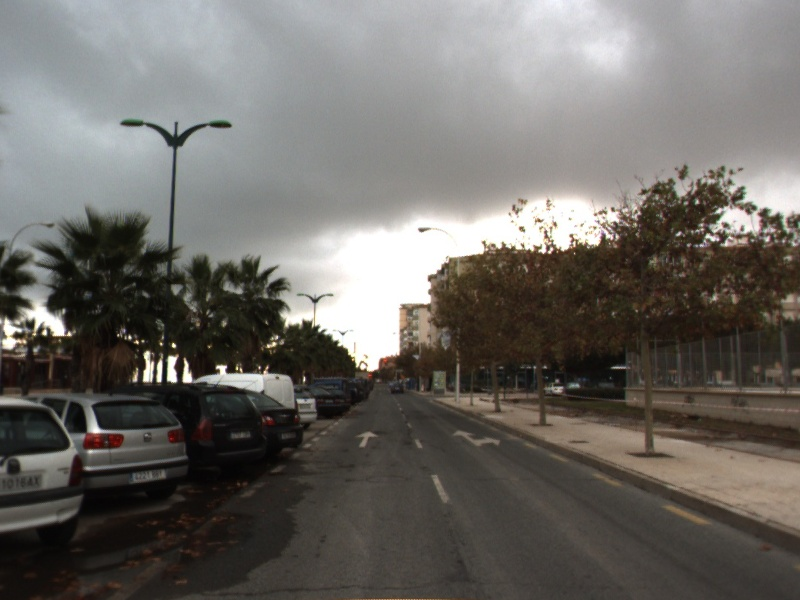STRAIGHT: (353, 430, 382, 448)
STRAIGHT_RIGHT: (451, 427, 502, 448)
